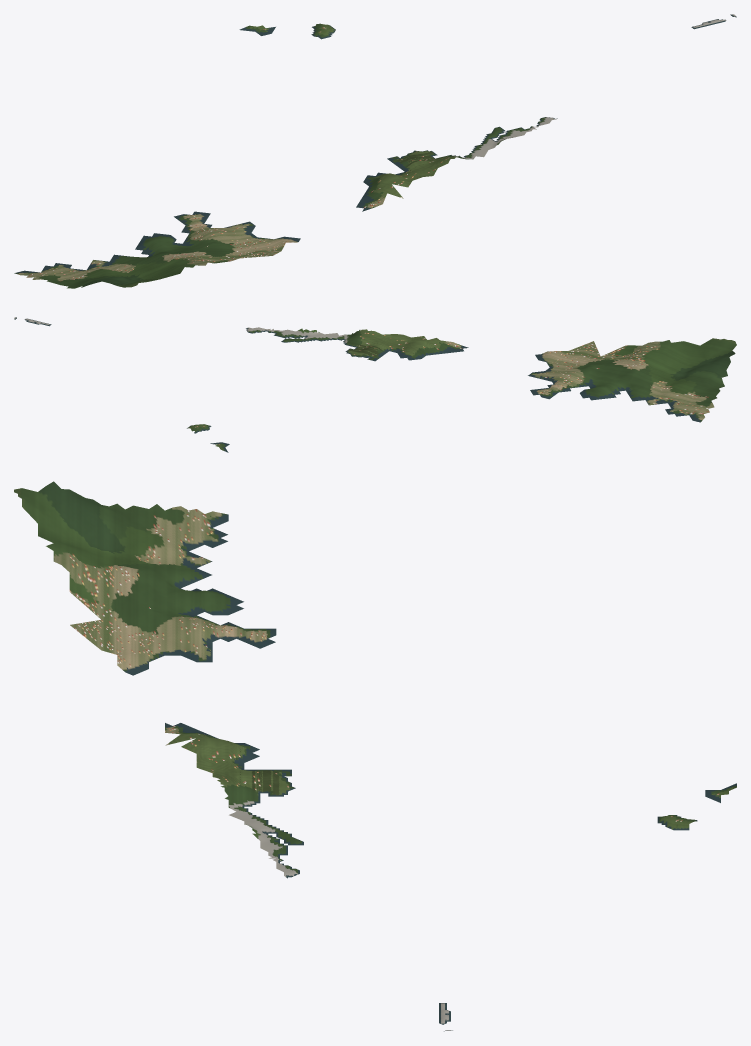
File: SM_Fondale_Colline_SE.fbx
The picture shows the model from 3 angles, top to bottom: view 1: azimuth 30°, elevation 25°; view 2: azimuth 150°, elevation 25°; view 3: azimuth 270°, elevation 25°; orthographic projection. The views are drawn at different scales.
Parts seen in each view (by area): view 1: SM_Fondale_Colline_SE; view 2: SM_Fondale_Colline_SE; view 3: SM_Fondale_Colline_SE.
Part boxes in pixels (x1,y1,x2,y2): SM_Fondale_Colline_SE: (14, 14, 736, 288); SM_Fondale_Colline_SE: (14, 317, 736, 452); SM_Fondale_Colline_SE: (14, 481, 736, 1031).
Size of the model in its own units: 924000 by 546000 by 41609.
1 material, 1 textured.
